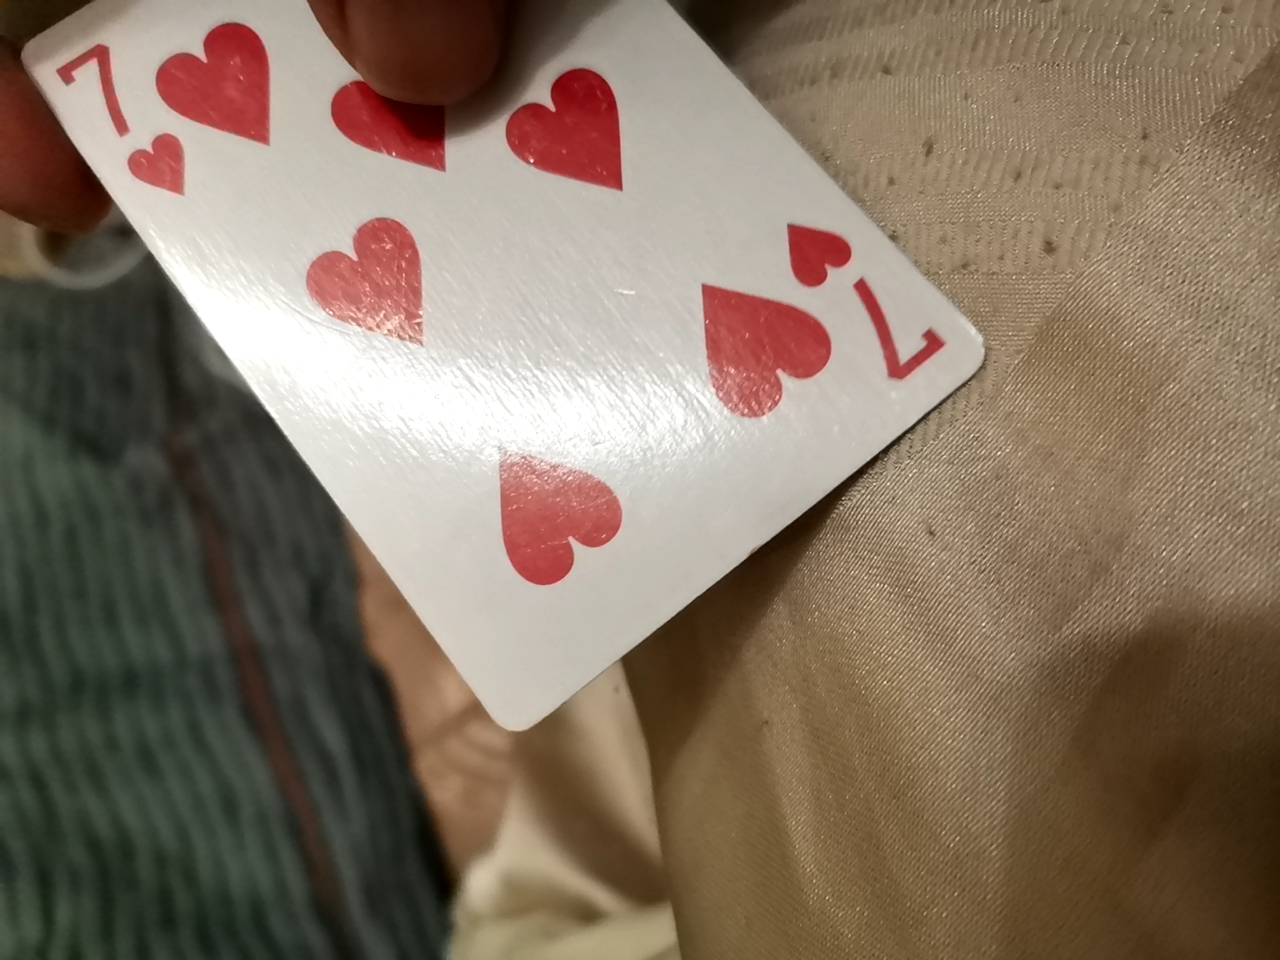hx 7: (11, 6, 988, 763)
